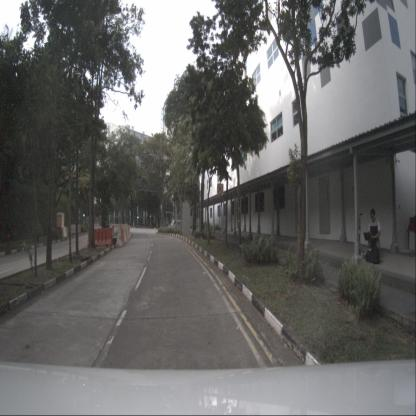human-pedestrian-adult: (362, 207, 381, 259), (5, 223, 12, 245)
movable_object-barrier: (92, 228, 113, 248), (115, 229, 123, 248), (70, 224, 79, 234), (121, 228, 126, 244), (123, 228, 128, 243), (62, 226, 68, 238), (126, 227, 130, 240)
movable_object-trafficcone: (86, 233, 90, 248)
vehicle-car: (170, 220, 184, 231)
